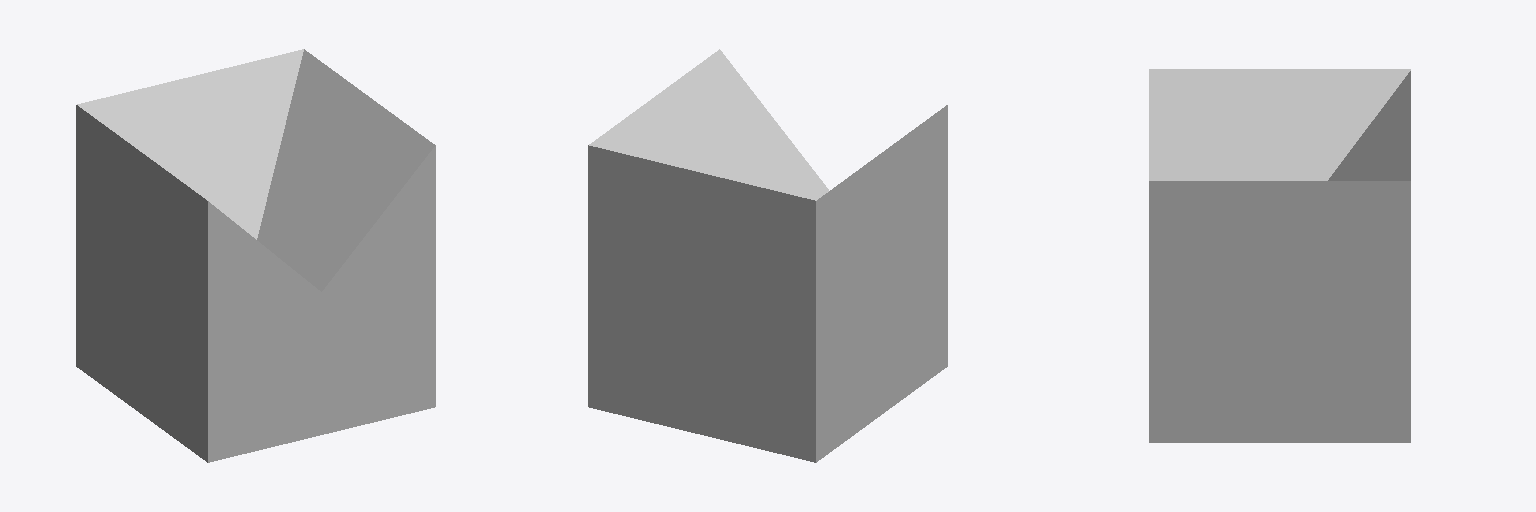
The picture shows the model from 3 angles: view 1: azimuth 30°, elevation 25°; view 2: azimuth 150°, elevation 25°; view 3: azimuth 270°, elevation 25°; orthographic projection.
Visible parts, largest first — view 1: cube2; view 2: cube2; view 3: cube2.
Part boxes in pixels (x1,y1,x2,y2): cube2: (76, 49, 435, 462); cube2: (588, 49, 947, 462); cube2: (1149, 69, 1410, 442).
Bounding box in the file's own units: 1 × 1.1 × 1.